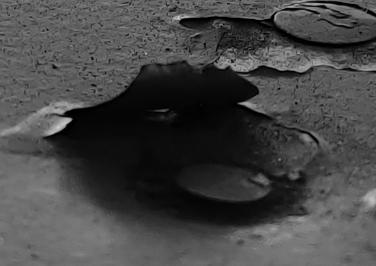paint-off: (0, 1, 375, 266)
